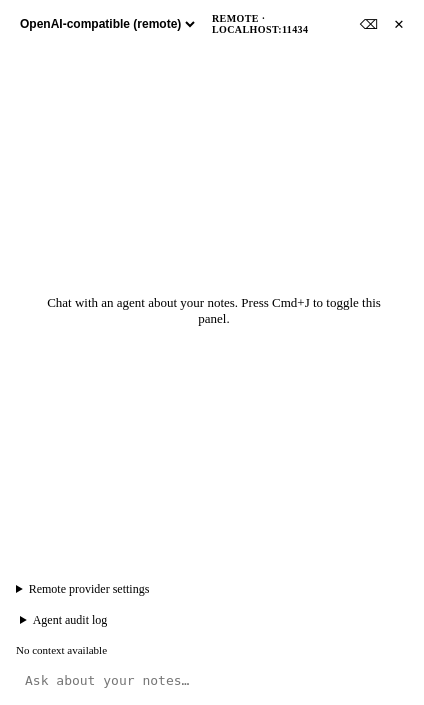
Test: ChatOverlay › remote provider affordances › keeps the model field usable when the endpoint has no /models
Click the heading "Remote provider settings": (89, 589) [29,582,149,596]
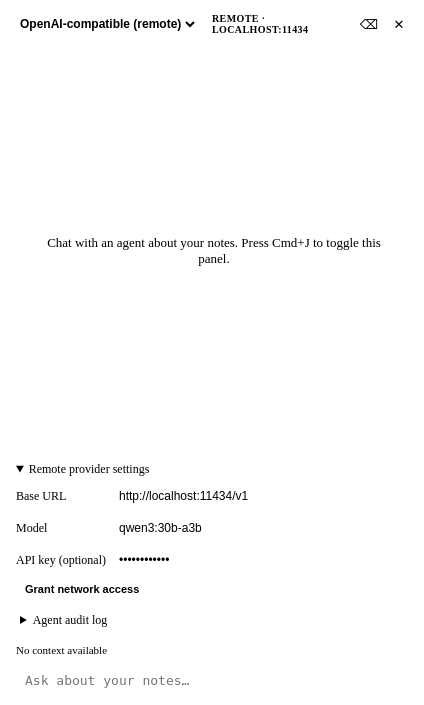
Now the field labelled "Model" is shown, box [112,515,412,541]
